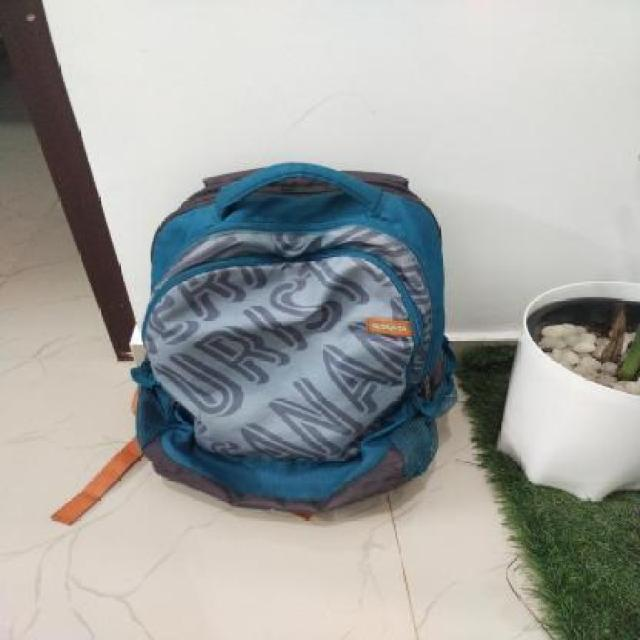backpack: (128, 160, 462, 523)
